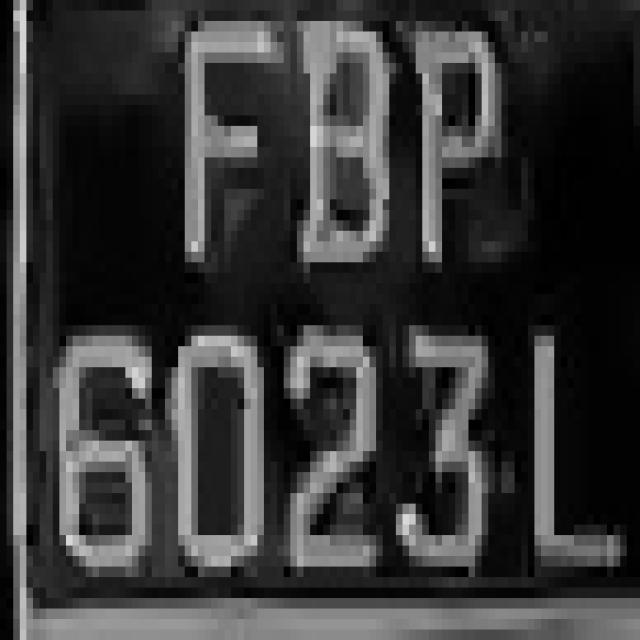0: (165, 284, 284, 608)
2: (277, 304, 403, 598)
3: (389, 283, 502, 588)
6: (40, 283, 165, 577)
B: (277, 0, 403, 325)
F: (151, 0, 257, 283)
L: (528, 273, 627, 598)
P: (389, 42, 522, 262)
